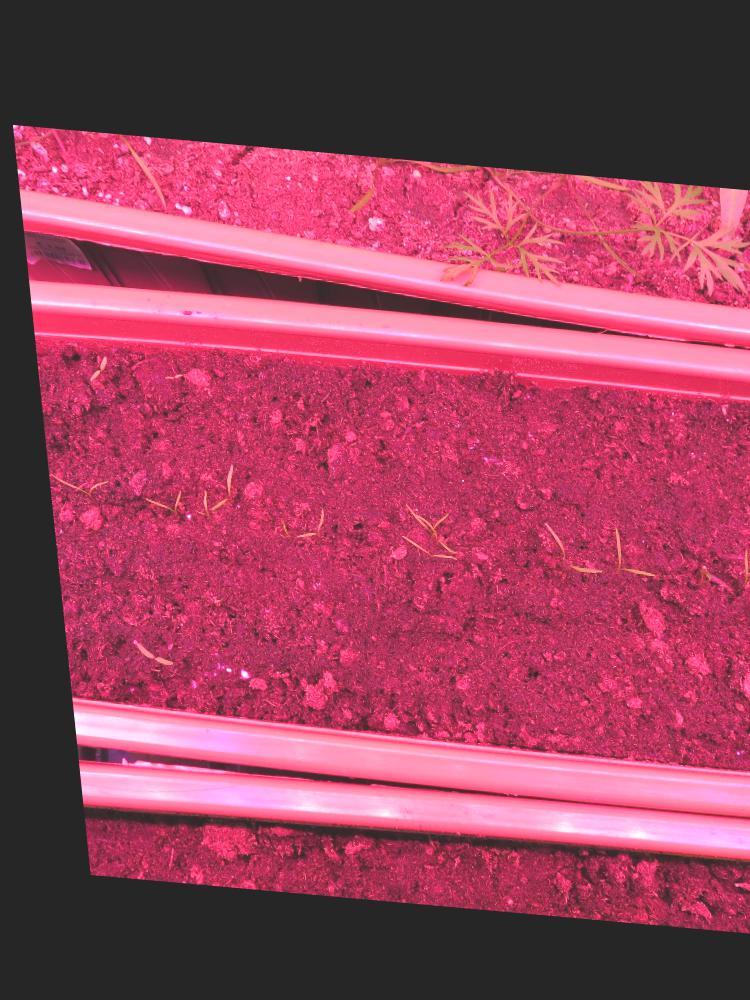crop: (529, 510, 594, 564), (602, 514, 649, 564), (195, 456, 229, 509), (39, 470, 105, 496), (280, 499, 320, 535), (130, 482, 175, 511), (729, 532, 749, 584)
weed: (117, 637, 164, 664), (75, 351, 104, 382), (153, 368, 178, 377)
